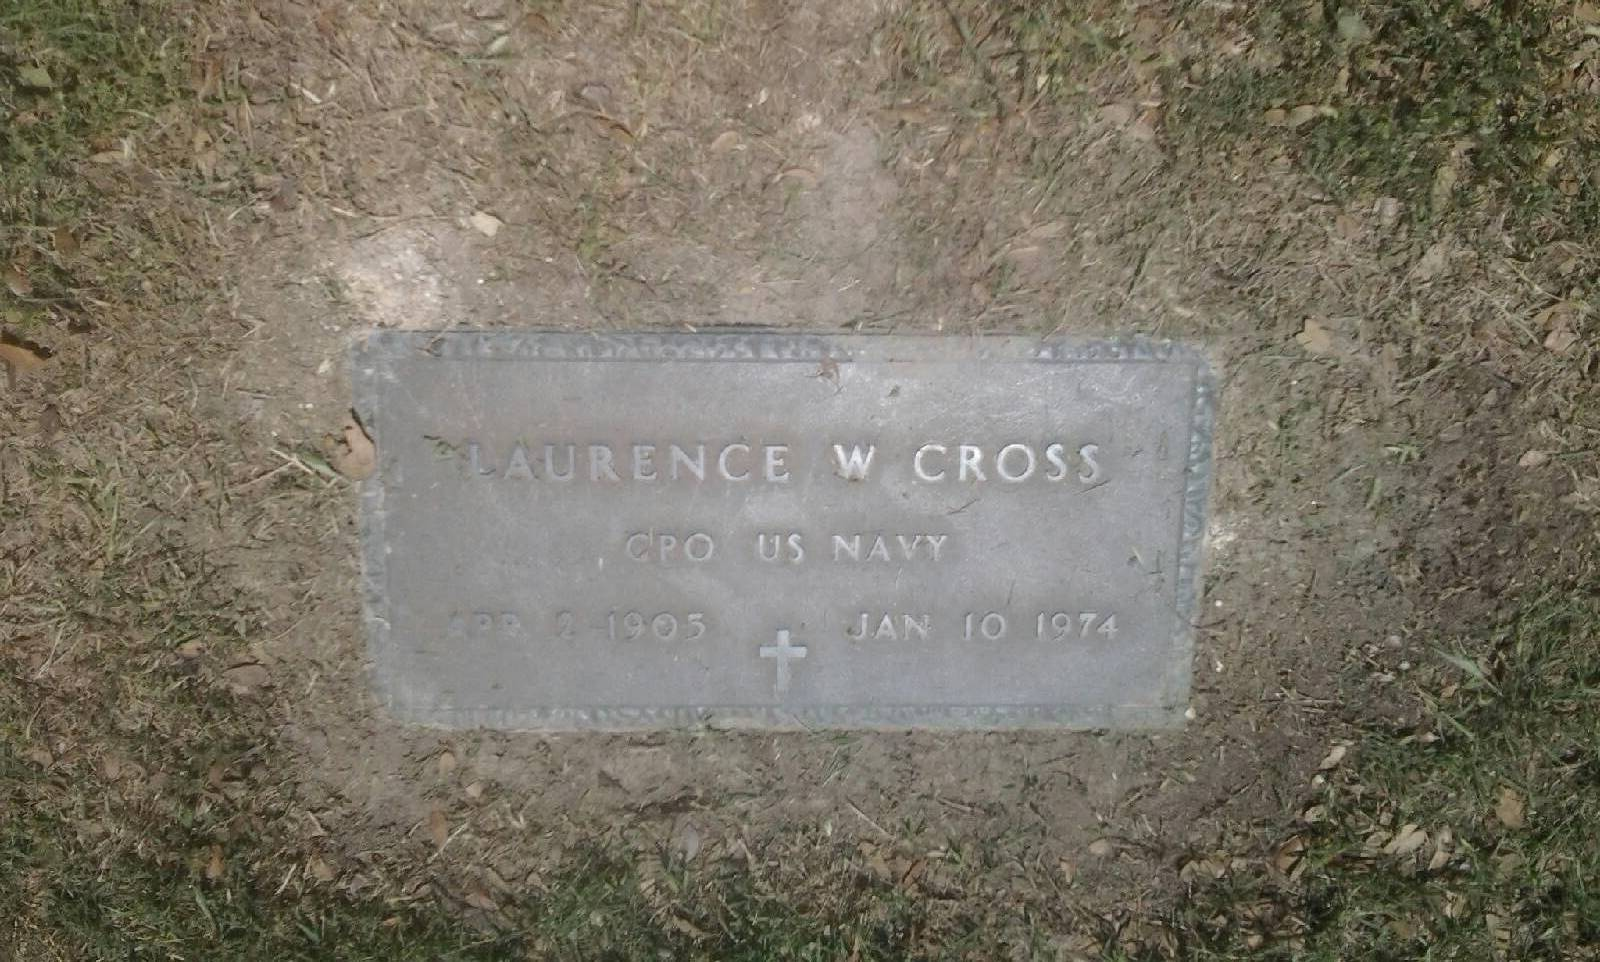flat: (338, 324, 1199, 736)
